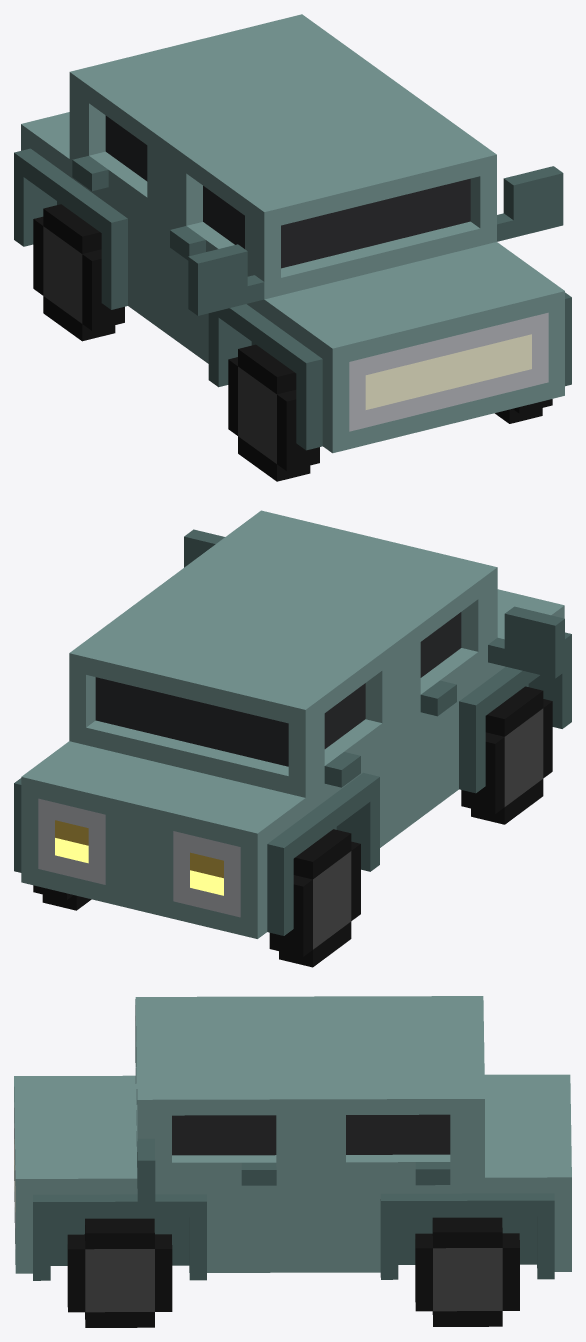
File: Sedan 1.fbx
3 renders of one model, top to bottom at view 1: azimuth 30°, elevation 25°; view 2: azimuth 150°, elevation 25°; view 3: azimuth 270°, elevation 25°, orthographic. The views are drawn at different scales.
Parts seen in each view (by area): view 1: CarThree; view 2: CarThree; view 3: CarThree.
Boxes of the visible parts, box(x1,y1,x2,y2) form: CarThree: box(14, 14, 571, 481); CarThree: box(14, 510, 571, 967); CarThree: box(14, 996, 571, 1327).
Size of the model in its own units: 3209 by 2201 by 1400.
